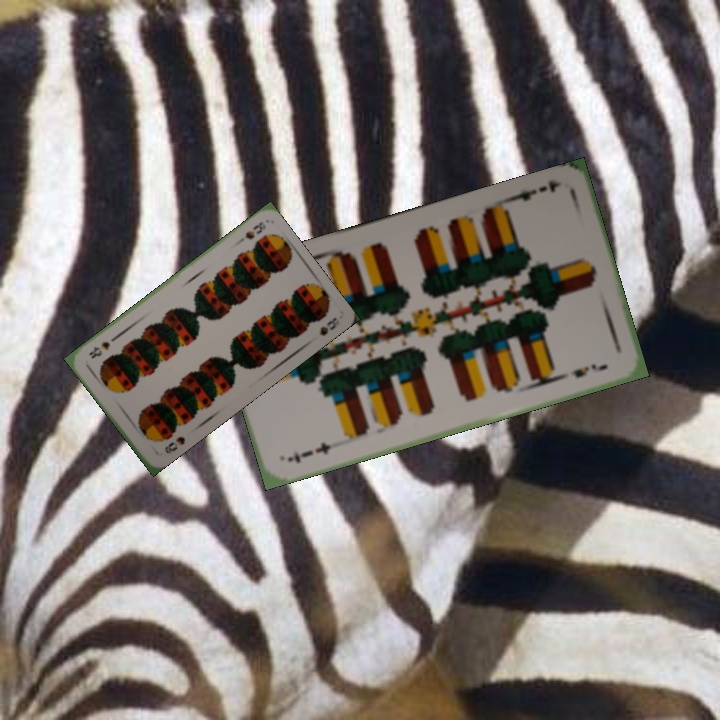E7: (507, 176, 565, 204), (283, 438, 334, 466)
S8: (232, 217, 269, 248), (160, 432, 188, 456)
